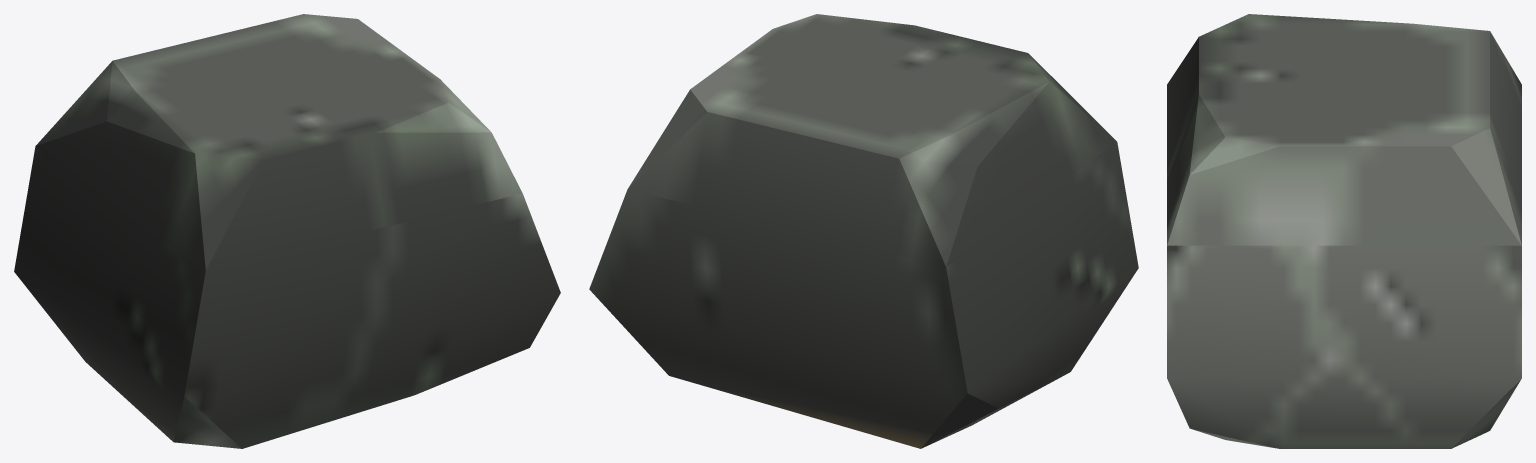
The model's file is Rock.fbx.
The picture shows the model from 3 angles, left to right: view 1: azimuth 30°, elevation 25°; view 2: azimuth 150°, elevation 25°; view 3: azimuth 270°, elevation 25°; orthographic projection. The views are drawn at different scales.
Parts seen in each view (by area): view 1: Rock; view 2: Rock; view 3: Rock.
Part boxes in pixels (left/top/right/bottom): Rock: left=14, top=14, right=560, bottom=448; Rock: left=589, top=14, right=1138, bottom=448; Rock: left=1167, top=14, right=1521, bottom=448.
Size of the model in its own units: 119 by 85.37 by 92.94.
Materials: 1 (1 with a texture image).
